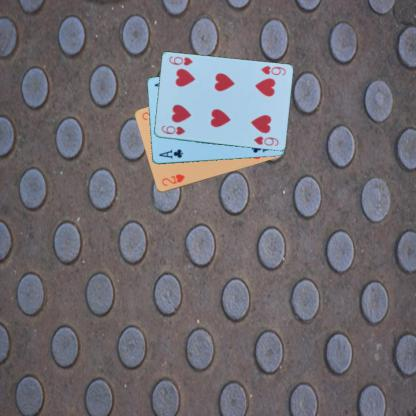2h: (159, 172, 186, 187)
6h: (258, 63, 287, 77), (159, 123, 186, 136)
Ac: (156, 147, 184, 160)
